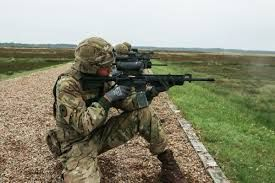gun: (83, 54, 218, 103)
uniform: (56, 69, 171, 175)
